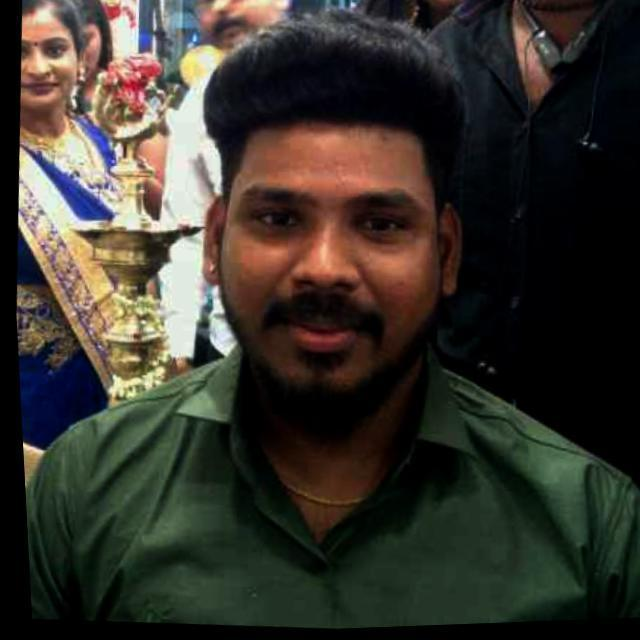puffy_eyes: (235, 224, 313, 248)
